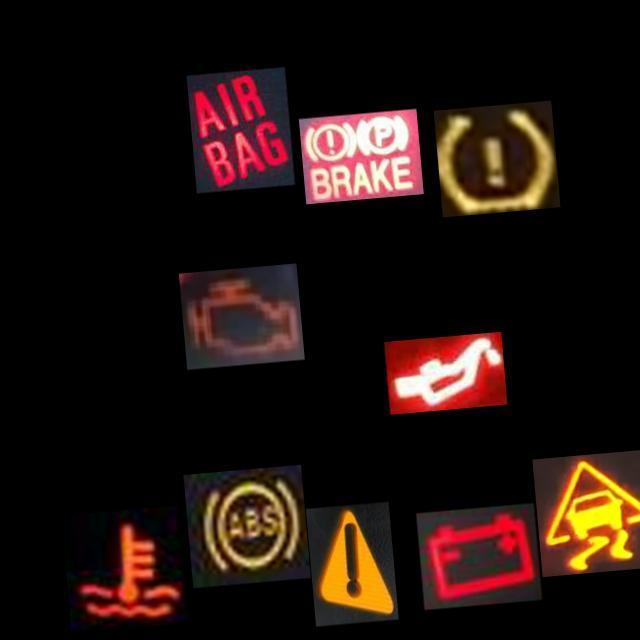Central Warning lamp: (306, 501, 398, 626)
Engine cooling system: (61, 505, 189, 633)
